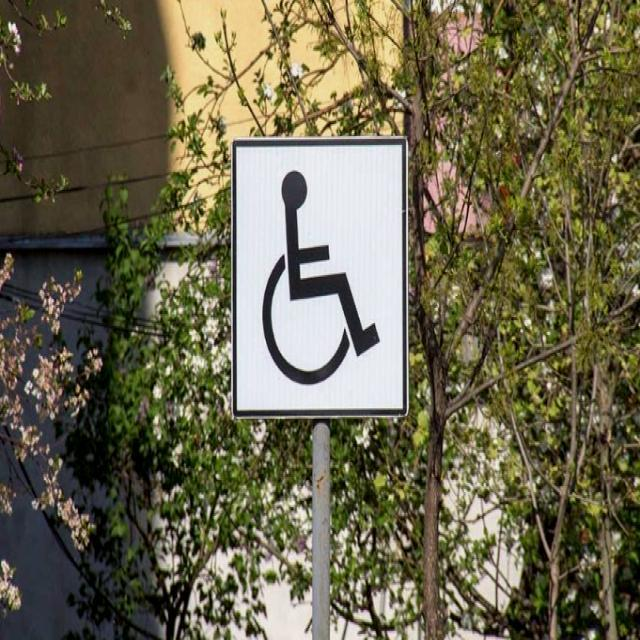symbol_of_access: (229, 136, 408, 419)
